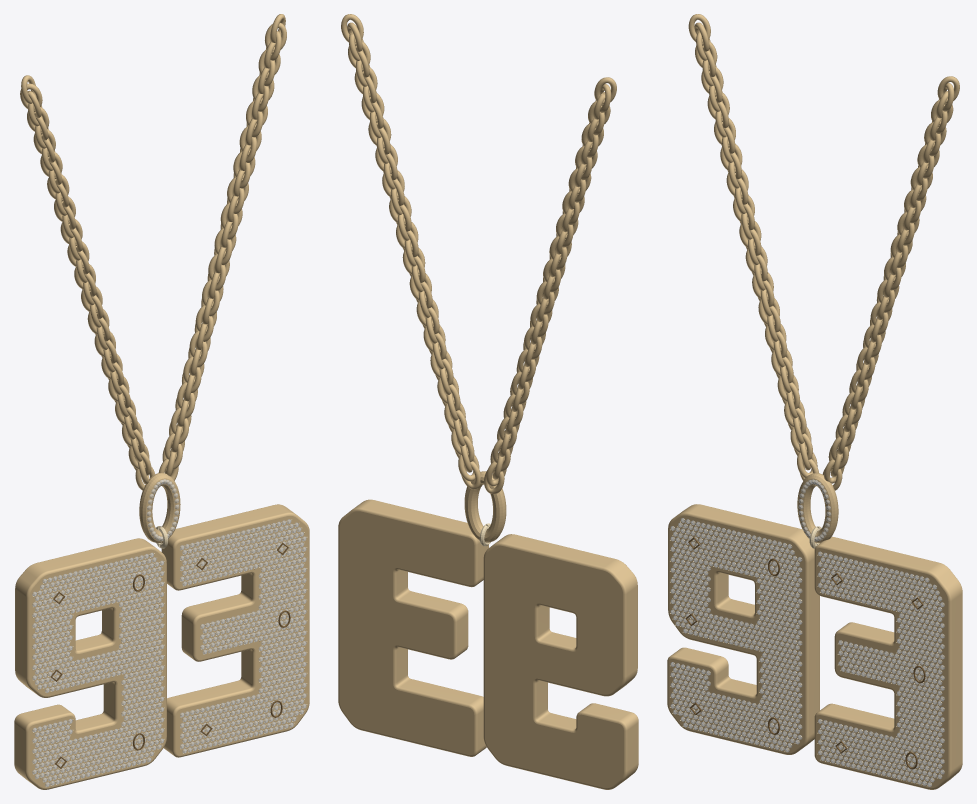
Rendered from necklace-93-blender.glb.
3 renders of one model, left to right at view 1: azimuth 30°, elevation 25°; view 2: azimuth 150°, elevation 25°; view 3: azimuth 330°, elevation 25°, orthographic.
Visible parts, largest first — view 1: Chiffre_9, Chiffre_3, Pierres_9, Pierres_3, Chaine_droite, Chaine_gauche, Griffes_9, Griffes_3, Beliere_metal, Motifs_sertis, Beliere_pierres; view 2: Chiffre_9, Chiffre_3, Chaine_droite, Chaine_gauche, Beliere_metal; view 3: Chiffre_9, Chiffre_3, Pierres_9, Pierres_3, Chaine_gauche, Chaine_droite, Griffes_9, Griffes_3, Beliere_metal, Motifs_sertis, Beliere_pierres.
Boxes of the visible parts, <box> form: Chiffre_9: <box>14,538,166,789</box>; Chiffre_3: <box>161,504,309,757</box>; Pierres_9: <box>32,552,164,786</box>; Pierres_3: <box>180,519,306,753</box>; Chaine_droite: <box>158,14,286,480</box>; Chaine_gauche: <box>20,75,154,490</box>; Griffes_9: <box>32,553,164,787</box>; Griffes_3: <box>180,519,307,753</box>; Beliere_metal: <box>139,473,180,542</box>; Motifs_sertis: <box>50,542,290,768</box>; Beliere_pierres: <box>146,479,179,541</box>; Chiffre_9: <box>483,534,638,789</box>; Chiffre_3: <box>338,499,488,756</box>; Chaine_droite: <box>341,14,480,489</box>; Chaine_gauche: <box>484,77,616,493</box>; Beliere_metal: <box>464,471,506,542</box>; Chiffre_9: <box>667,504,819,754</box>; Chiffre_3: <box>814,536,962,789</box>; Pierres_9: <box>670,518,802,752</box>; Pierres_3: <box>818,551,944,786</box>; Chaine_gauche: <box>688,14,818,480</box>; Chaine_droite: <box>822,76,959,490</box>; Griffes_9: <box>669,519,801,751</box>; Griffes_3: <box>817,553,944,786</box>; Beliere_metal: <box>797,473,838,543</box>; Motifs_sertis: <box>685,537,925,769</box>; Beliere_pierres: <box>798,479,830,541</box>.
Bounding box in the file's own units: 3.24 × 7.68 × 0.4661.
